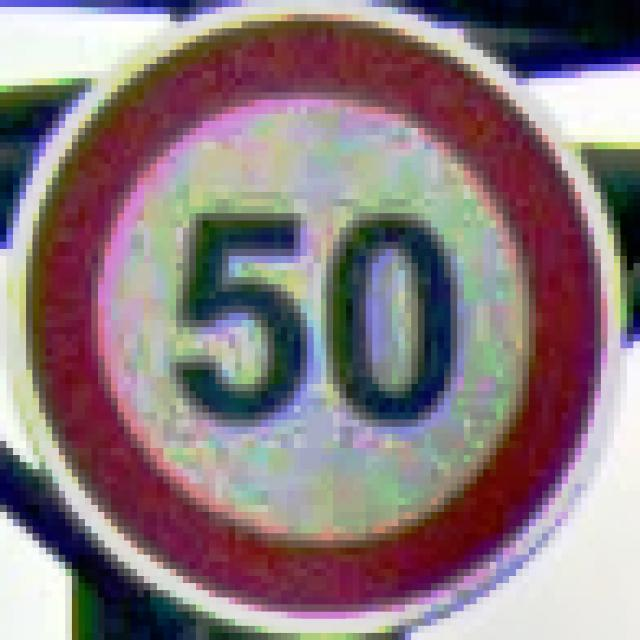max50: (0, 0, 627, 633)
